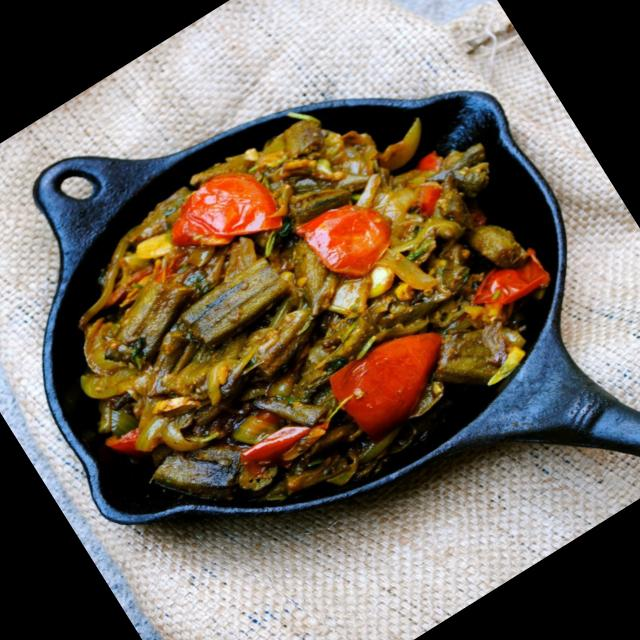BhindiMasala: (9, 33, 596, 579)
